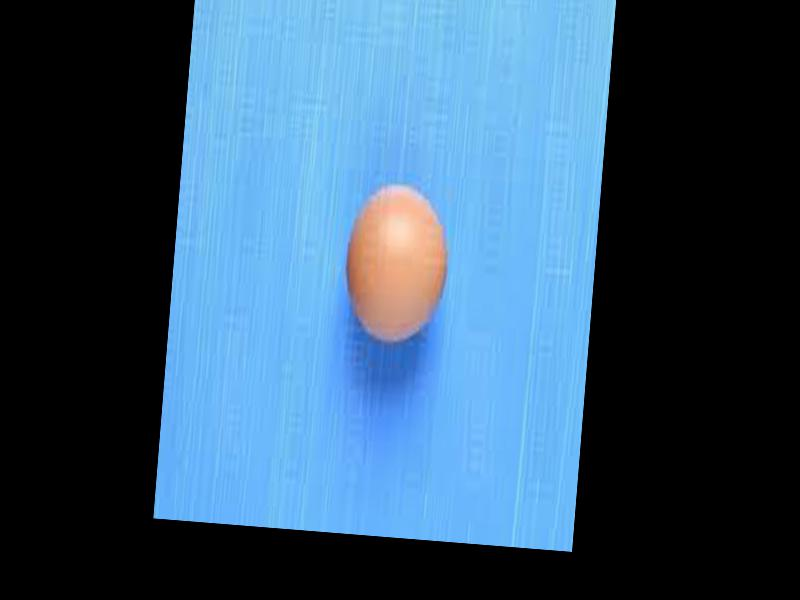Eggs: (341, 178, 452, 351)
